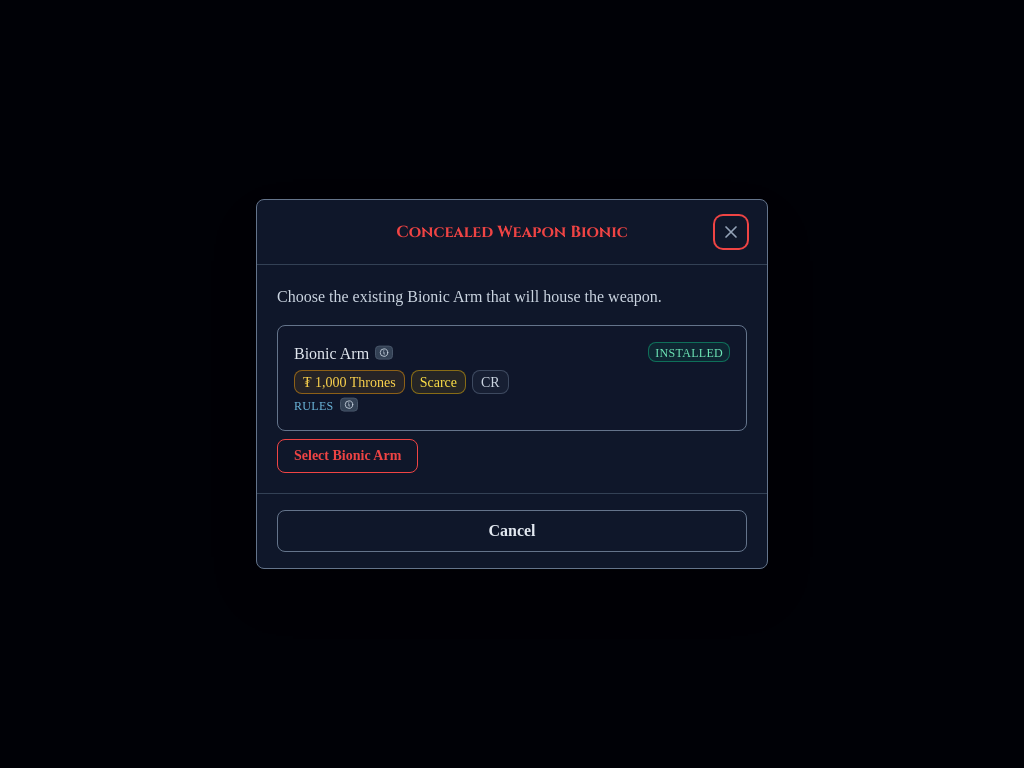
Test: ConcealedWeaponBionicInstaller › shows a placeholder when no eligible weapon exists
Click the button "Select Bionic Arm" at [348, 456], box 277,439 -> 418,473
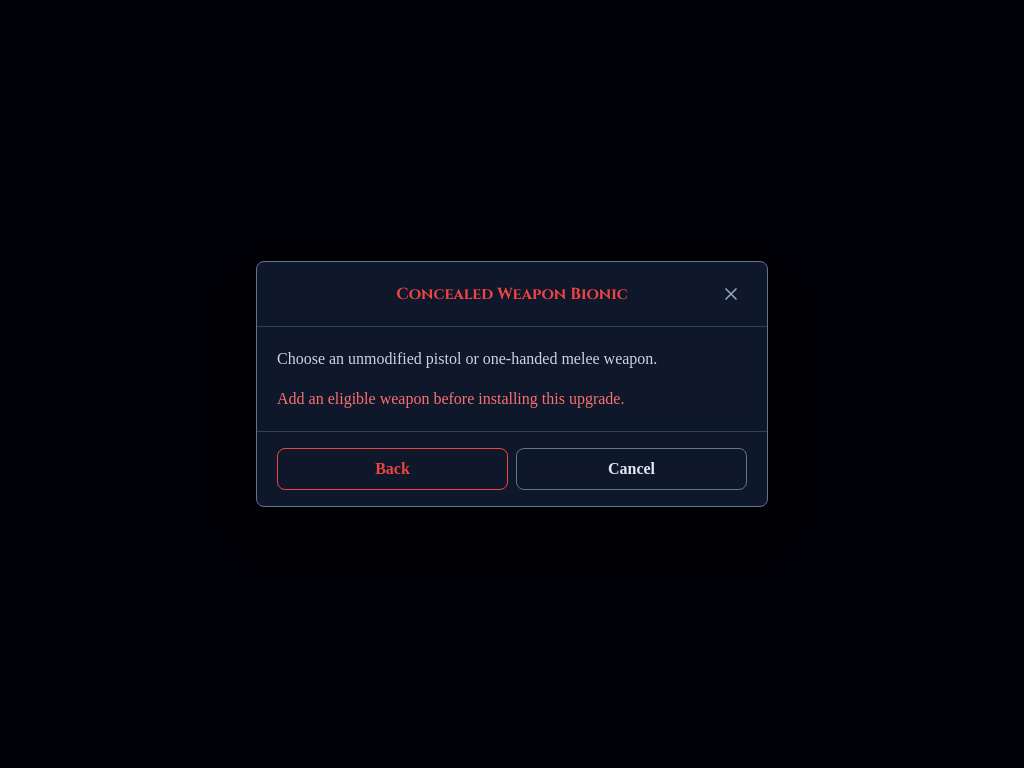
Check: the text "Add an eligible weapon before installing this upgrade." is shown, box 277,390 -> 624,407
